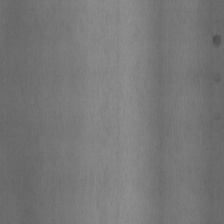oil_spot: (211, 31, 222, 47)
